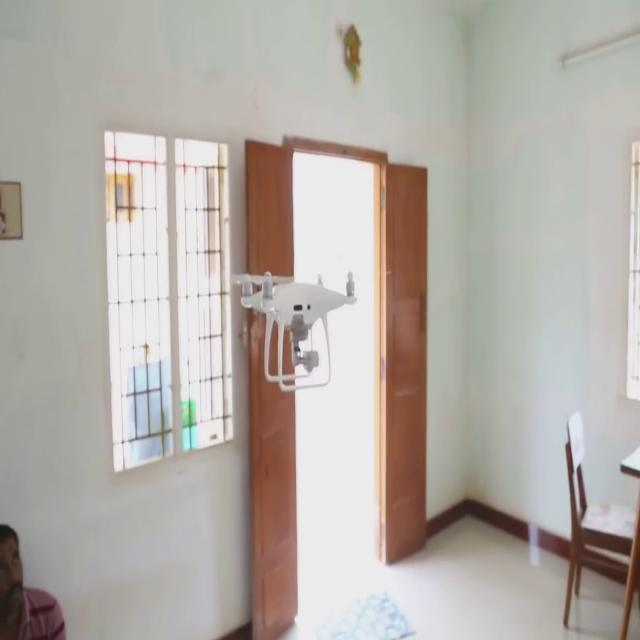drones: (221, 244, 381, 413)
